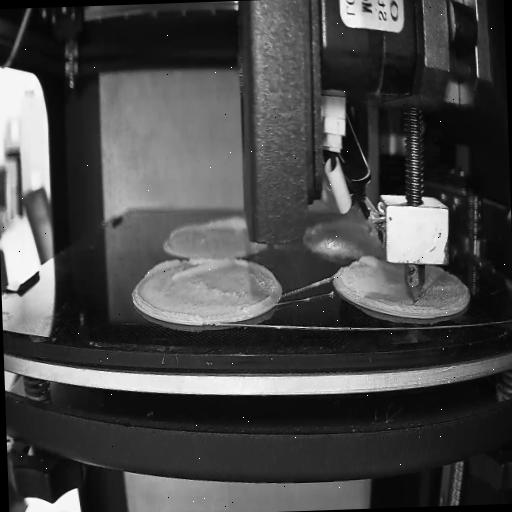over_extrusion: (234, 258, 278, 316), (144, 256, 234, 282), (356, 253, 396, 275), (208, 216, 247, 232)
